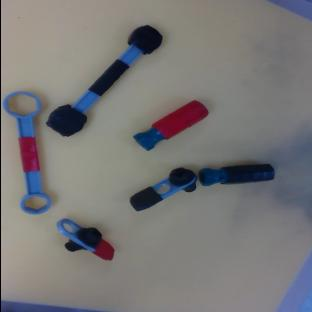part_1_bad: (124, 163, 200, 213)
part_1_good: (49, 216, 118, 265)
part_2_bad: (197, 162, 274, 188)
part_2_good: (131, 97, 208, 154)
part_3_bad: (42, 16, 165, 144)
part_3_good: (1, 89, 51, 217)
